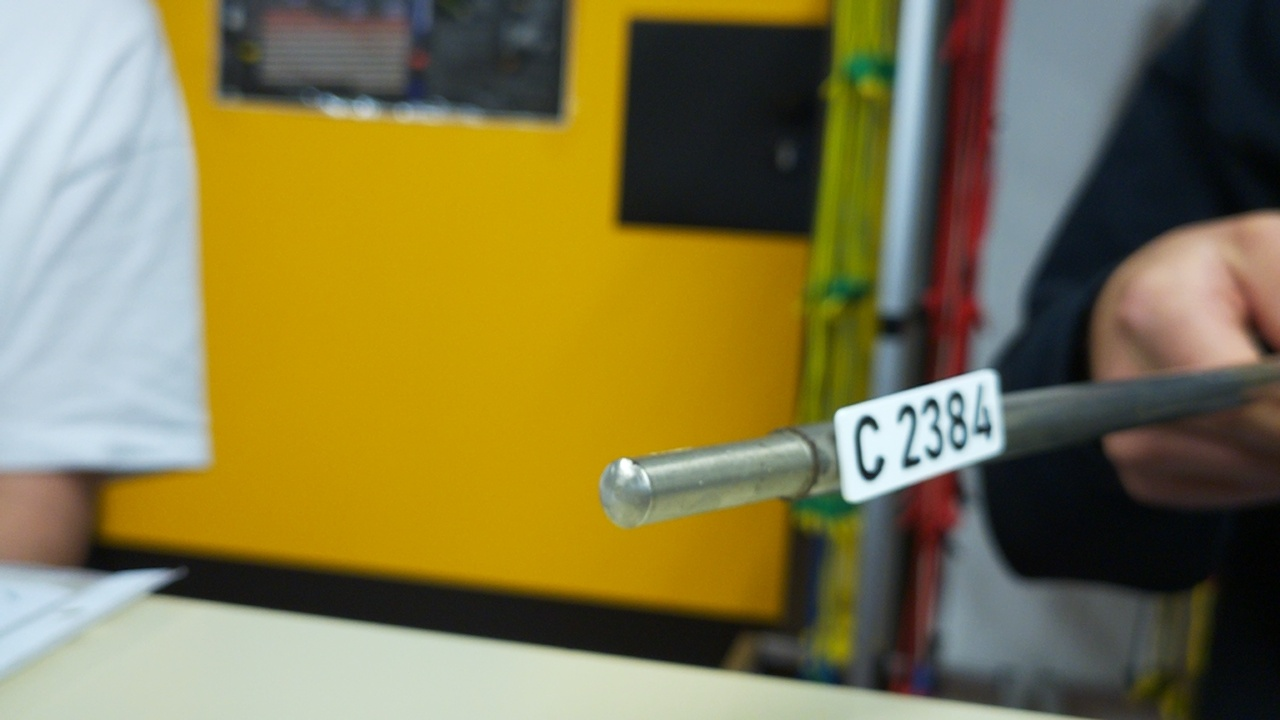license_plate: (831, 366, 1010, 507)
